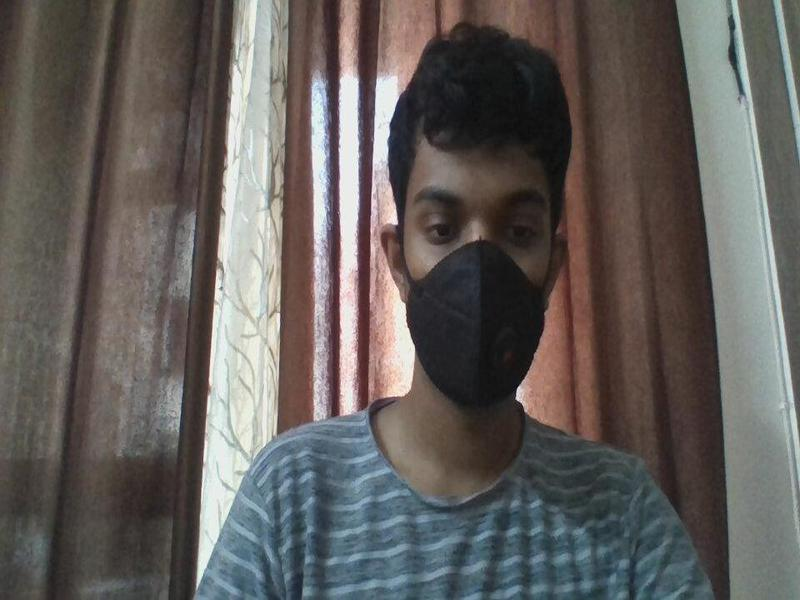with_mask: (396, 117, 557, 408)
